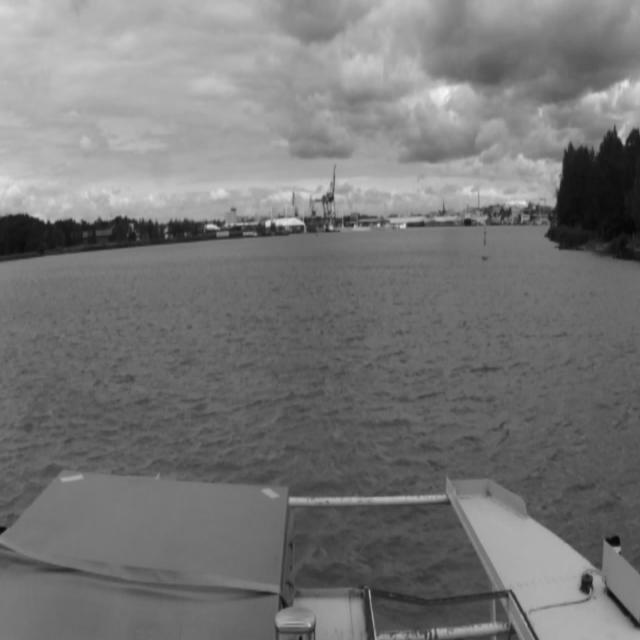buoy: (482, 223, 488, 258)
ship: (463, 203, 471, 226)
